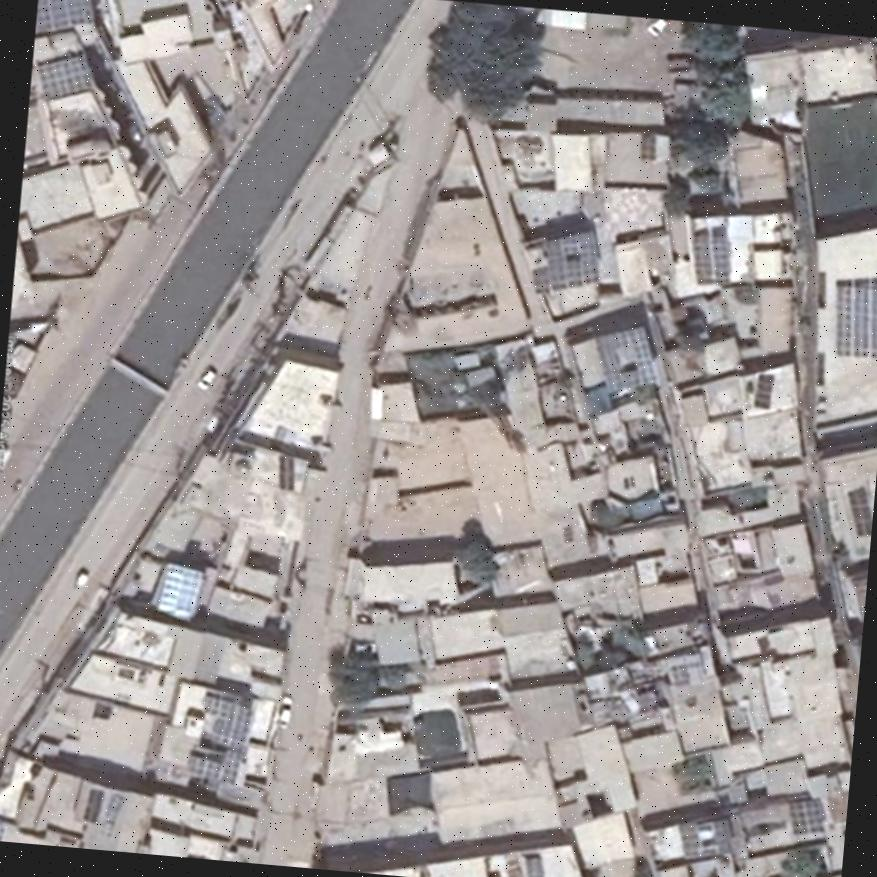Solarpanel: (183, 695, 248, 782), (597, 324, 653, 391), (837, 282, 877, 355), (546, 230, 597, 287), (157, 563, 202, 619), (37, 56, 88, 97), (36, 0, 93, 32), (696, 233, 730, 280), (789, 801, 821, 832)
